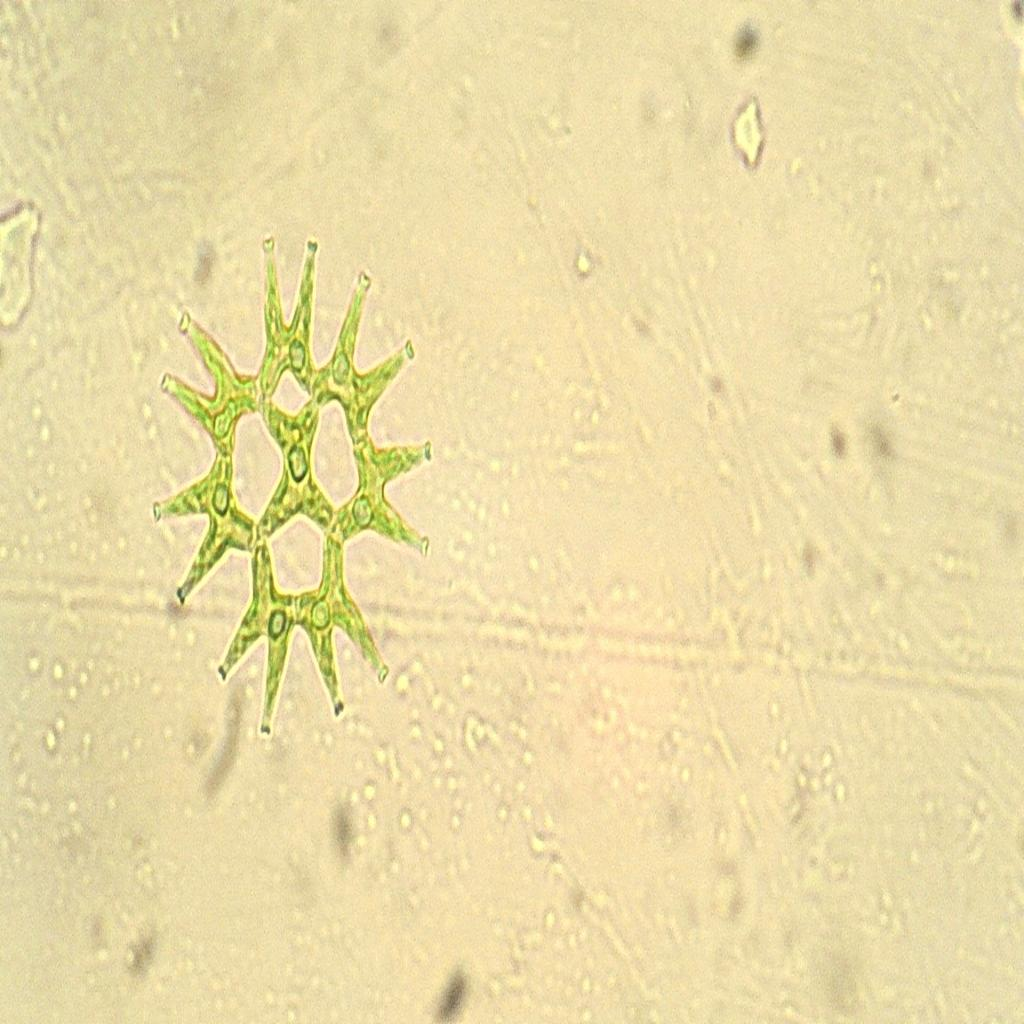Pediastrum_CTH: (143, 229, 441, 758)
